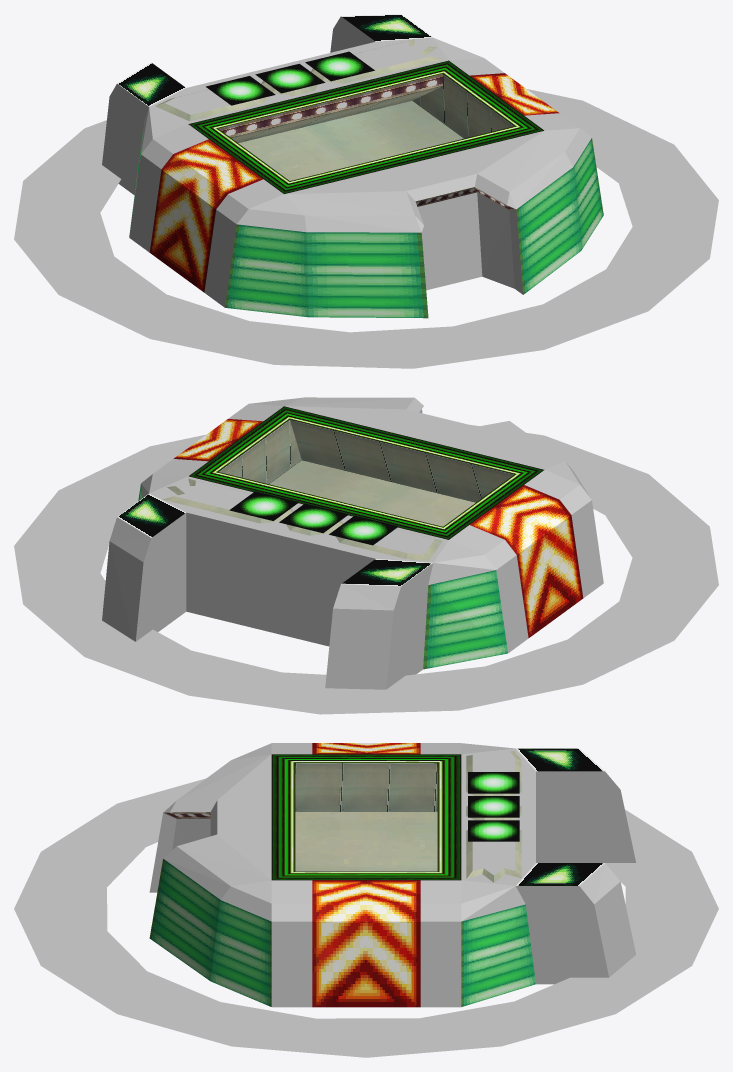
Rendered from slotmachine_on.obj.
3 renders of one model, top to bottom at view 1: azimuth 30°, elevation 25°; view 2: azimuth 150°, elevation 25°; view 3: azimuth 270°, elevation 25°, orthographic.
Parts seen in each view (by area): view 1: slot1, efect, slot2, sides_on, jackpot, bet1, bet2, bet3, bet; view 2: slot1, efect, slot2, sides_on, jackpot, bet2, bet3, bet1, bet; view 3: slot1, efect, slot2, sides_on, jackpot, bet1, bet2, bet3, bet.
Part boxes in pixels (<box>): slot1: <box>117,14,603,318</box>; efect: <box>14,89,718,368</box>; slot2: <box>102,37,591,307</box>; sides_on: <box>149,73,559,292</box>; jackpot: <box>353,41,429,69</box>; bet1: <box>255,63,325,93</box>; bet2: <box>305,51,374,81</box>; bet3: <box>206,76,275,105</box>; bet: <box>165,89,230,114</box>; slot1: <box>117,406,543,669</box>; efect: <box>14,424,718,714</box>; slot2: <box>102,397,603,689</box>; sides_on: <box>173,419,583,637</box>; jackpot: <box>175,480,250,509</box>; bet2: <box>229,491,299,520</box>; bet3: <box>329,515,398,545</box>; bet1: <box>279,503,348,533</box>; bet: <box>374,529,434,554</box>; slot1: <box>149,748,635,1006</box>; efect: <box>14,778,718,1057</box>; slot2: <box>163,743,635,1007</box>; sides_on: <box>312,743,420,1007</box>; jackpot: <box>472,841,515,874</box>; bet1: <box>468,796,519,817</box>; bet2: <box>468,820,519,841</box>; bet3: <box>468,772,519,793</box>; bet: <box>472,751,515,771</box>.
Bounding box in the file's own units: 130 × 20.94 × 130.
